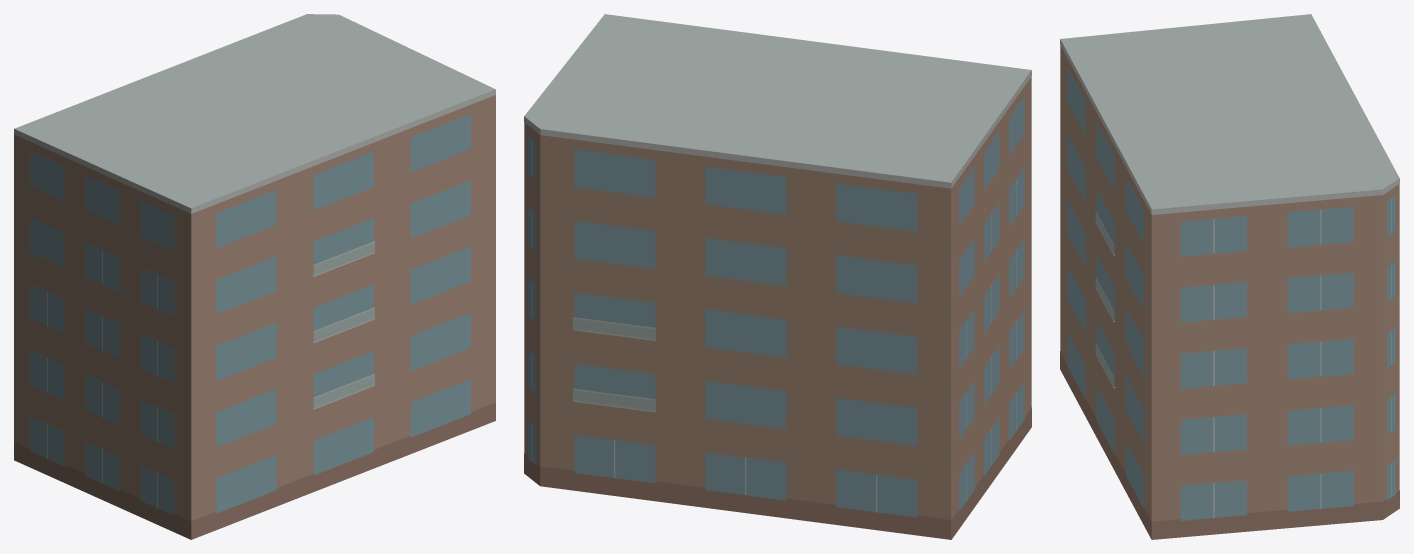
The model's file is survey-upis-32954098.glb.
3 views of the same model, side by side, from view 1: azimuth 30°, elevation 25°; view 2: azimuth 150°, elevation 25°; view 3: azimuth 270°, elevation 25° (orthographic). The views are drawn at different scales.
Parts seen in each view (by area): view 1: survey-upis-32954098.tmp; view 2: survey-upis-32954098.tmp; view 3: survey-upis-32954098.tmp.
Boxes of the visible parts, bbox=[...] form: survey-upis-32954098.tmp: bbox=[14, 14, 495, 539]; survey-upis-32954098.tmp: bbox=[524, 14, 1031, 539]; survey-upis-32954098.tmp: bbox=[1060, 14, 1399, 539].
Bounding box in the file's own units: 18.4 × 14.5 × 13.51.
